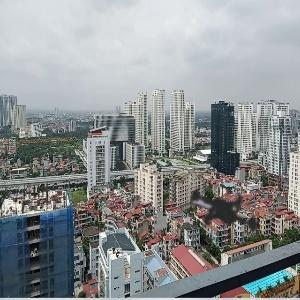drone: (151, 132, 298, 279)
